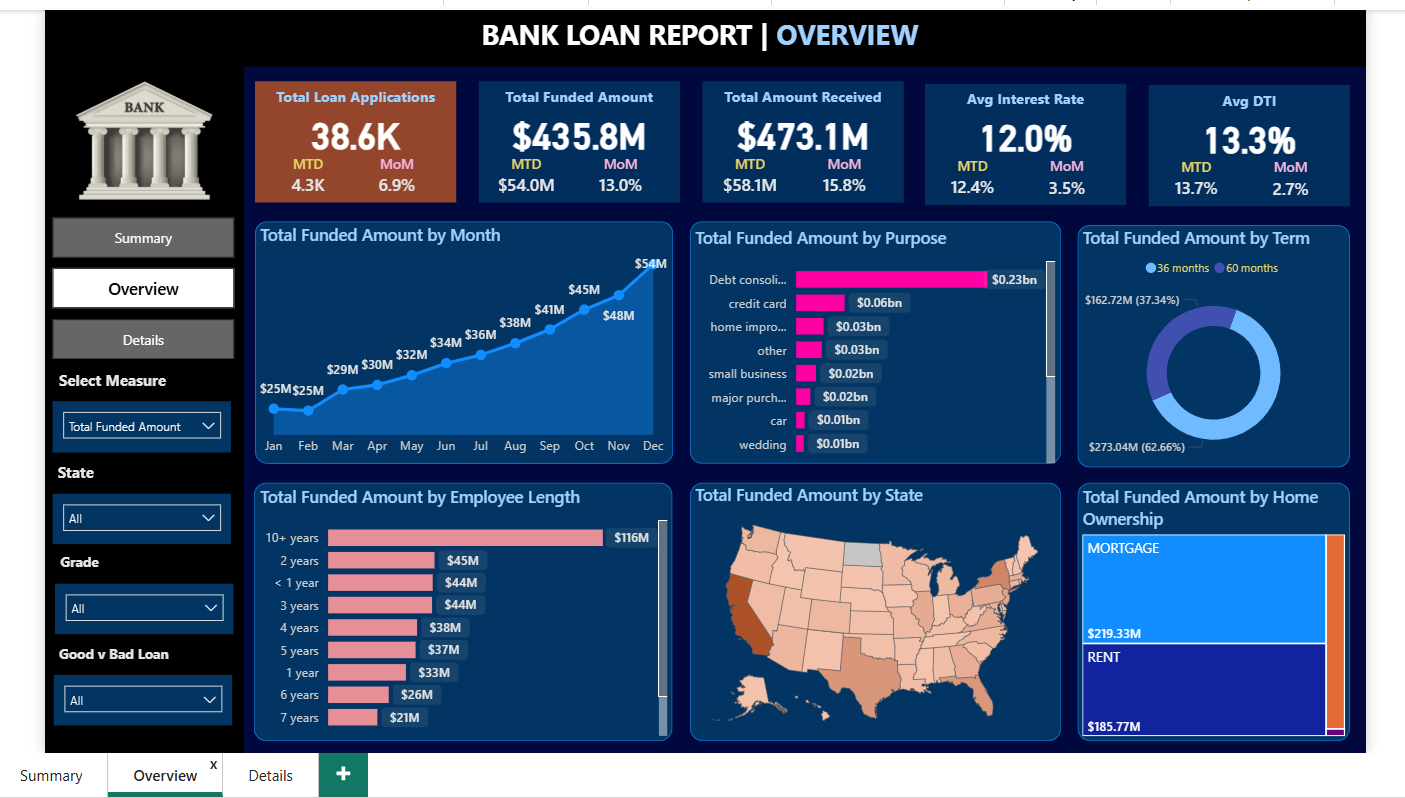

The page's visual inventory and layout, read from the dashboard file:
{"tool":"powerbi","page":{"name":"Overview","canvas":[1280,720],"ordinal":1},"visuals":[{"type":"shape","box":[0,54.5,192.5,665.8],"z":0},{"type":"shape","box":[203.4,69,194.9,117.4],"z":0,"group":"g1"},{"type":"shape","box":[419.7,69,194.9,117.4],"z":0,"group":"g2"},{"type":"shape","box":[636.1,69,194.9,117.4],"z":0,"group":"g3"},{"type":"shape","box":[852.5,71.4,194.9,117.4],"z":0,"group":"g4"},{"type":"shape","box":[1068.9,72.6,194.9,117.4],"z":0,"group":"g5"},{"type":"card","fields":{"Values":["bank_loan_data.Total Loan Applications"]},"box":[203.4,95.6,194.9,47.2],"z":1000,"group":"g1"},{"type":"card","fields":{"Values":["bank_loan_data.Total Funded Amount"]},"box":[419.7,95.6,194.9,47.2],"z":1000,"group":"g2"},{"type":"card","fields":{"Values":["bank_loan_data.Total Amount Received"]},"box":[636.1,95.6,194.9,47.2],"z":1000,"group":"g3"},{"type":"card","fields":{"Values":["bank_loan_data.Avg Interest Rate"]},"box":[852.5,98,194.9,47.2],"z":1000,"group":"g4"},{"type":"card","fields":{"Values":["bank_loan_data.Avg DTI"]},"box":[1068.9,99.2,194.9,47.2],"z":1000,"group":"g5"},{"type":"shape","box":[203.4,204.6,405,235],"z":1000},{"type":"shape","box":[0,0,1280.3,55],"z":2000},{"type":"textbox","box":[203.4,69,194.9,35.1],"z":2000,"group":"g1"},{"type":"textbox","box":[419.7,69,194.9,35.1],"z":2000,"group":"g2"},{"type":"textbox","box":[636.1,69,194.9,35.1],"z":2000,"group":"g3"},{"type":"textbox","box":[852.5,71.4,194.9,35.1],"z":2000,"group":"g4"},{"type":"textbox","box":[1068.9,72.6,194.9,35.1],"z":2000,"group":"g5"},{"type":"textbox","box":[417.6,0,444.3,55.7],"z":3000},{"type":"card","title":"MTD","fields":{"Values":["bank_loan_data.MTD Funded Amount"]},"box":[427.8,139,75.1,46],"z":3000,"group":"g2"},{"type":"card","title":"MTD","fields":{"Values":["bank_loan_data.MTD Total Amount Received"]},"box":[644.2,139,75.1,46],"z":3000,"group":"g3"},{"type":"card","title":"MTD","fields":{"Values":["bank_loan_data.MTD Loan Applications"]},"box":[224,139.2,61.7,47.2],"z":3000,"group":"g1"},{"type":"card","title":"MTD","fields":{"Values":["bank_loan_data.MTD Avg Int Rate"]},"box":[860.6,141.4,75.1,46],"z":3000,"group":"g4"},{"type":"card","title":"MTD","fields":{"Values":["bank_loan_data.MTD Avg DTI"]},"box":[1077,142.6,75.1,46],"z":3000,"group":"g5"},{"type":"group","id":"g1","title":"Group 1","box":[203.4,69,194.9,117.4],"z":4000},{"type":"card","title":"MoM","fields":{"Values":["bank_loan_data.MoM Loan Applications"]},"box":[309.9,139.2,61.7,47.2],"z":4000,"group":"g1"},{"type":"card","title":"MoM","fields":{"Values":["bank_loan_data.MoM Total Funded Amount"]},"box":[526.2,139.2,61.7,47.2],"z":4000,"group":"g2"},{"type":"card","title":"MoM","fields":{"Values":["bank_loan_data.MoM Total Amount Received"]},"box":[742.6,139.2,61.7,47.2],"z":4000,"group":"g3"},{"type":"card","title":"MoM","fields":{"Values":["bank_loan_data.MoM Avg Int Rate"]},"box":[959,141.6,61.7,47.2],"z":4000,"group":"g4"},{"type":"card","title":"MoM","fields":{"Values":["bank_loan_data.MoM Avg DTI"]},"box":[1175.4,142.8,61.7,47.2],"z":4000,"group":"g5"},{"type":"group","id":"g2","title":"Group 1","box":[419.7,69,194.9,117.4],"z":5000},{"type":"group","id":"g3","title":"Group 1","box":[636.1,69,194.9,117.4],"z":6000},{"type":"group","id":"g4","title":"Group 1","box":[852.5,71.4,194.9,117.4],"z":7000},{"type":"group","id":"g5","title":"Group 1","box":[1068.9,72.6,194.9,117.4],"z":8000},{"type":"slicer","fields":{"Values":["bank_loan_data.address_state"]},"box":[7.3,468.1,173.1,48.4],"z":9000},{"type":"textbox","box":[7.3,432.6,69,31.5],"z":10000},{"type":"slicer","fields":{"Values":["bank_loan_data.grade"]},"box":[9.7,556,173.1,48.4],"z":11000},{"type":"textbox","box":[9.7,520.5,69,31.5],"z":12000},{"type":"slicer","fields":{"Values":["bank_loan_data.Good v Bad Loan"]},"box":[8.5,644,173.1,48.4],"z":13000},{"type":"textbox","box":[8.5,608.5,152.5,31.5],"z":14000},{"type":"areaChart","fields":{"Y":["bank_loan_data.Total Funded Amount"],"Category":["Date Table.Month"]},"box":[203.4,205.8,404.3,234.8],"z":15000},{"type":"slicer","fields":{"Values":["Select Measure.Select Measure"]},"box":[7.3,378.9,173.1,49.6],"z":16000},{"type":"shape","box":[624.6,204.6,359.5,234.8],"z":17000},{"type":"textbox","box":[8.5,343.4,141.6,31.5],"z":18000},{"type":"shape","box":[624.6,457.6,359.5,250.6],"z":19000},{"type":"shapeMap","fields":{"Value":["bank_loan_data.Total Funded Amount"],"Category":["bank_loan_data.address_state"]},"box":[624.6,457.6,359.5,250.6],"z":20000},{"type":"shape","box":[999.9,208.2,263.9,234.8],"z":21000},{"type":"donutChart","fields":{"Y":["bank_loan_data.Total Funded Amount"],"Category":["bank_loan_data.term"]},"box":[999.9,209.4,263.9,234.8],"z":22000},{"type":"shape","box":[202.2,457.6,405.5,250.6],"z":23000},{"type":"barChart","fields":{"Y":["bank_loan_data.Total Funded Amount"],"Category":["bank_loan_data.emp_length"]},"box":[203.4,460,404.3,248.2],"z":24000},{"type":"barChart","fields":{"Y":["bank_loan_data.Total Funded Amount"],"Category":["bank_loan_data.purpose"]},"box":[624.6,209.4,358.3,234.8],"z":25000},{"type":"shape","box":[999.9,457.6,263.9,250.6],"z":26000},{"type":"treemap","fields":{"Values":["bank_loan_data.Total Funded Amount"],"Group":["bank_loan_data.home_ownership"]},"box":[999.9,460,263.9,248.2],"z":27000},{"type":"pageNavigator","box":[7.3,201.3,176.7,138],"z":28000},{"type":"image","box":[25.4,55.7,141.6,141.6],"z":29000}]}

Visuals, with their boxes on the page's 1280x720 design canvas (x1, y1, x2, y2). These are canvas units, not pixel positions in the 1405x798 screenshot, which may show the page scaled, cropped or inside an application window:
shape: box(0, 54, 192, 720)
shape: box(203, 69, 398, 186)
shape: box(420, 69, 615, 186)
shape: box(636, 69, 831, 186)
shape: box(852, 71, 1047, 189)
shape: box(1069, 73, 1264, 190)
card - bank_loan_data.Total Loan Applications: box(203, 96, 398, 143)
card - bank_loan_data.Total Funded Amount: box(420, 96, 615, 143)
card - bank_loan_data.Total Amount Received: box(636, 96, 831, 143)
card - bank_loan_data.Avg Interest Rate: box(852, 98, 1047, 145)
card - bank_loan_data.Avg DTI: box(1069, 99, 1264, 146)
shape: box(203, 205, 608, 440)
shape: box(0, 0, 1280, 55)
textbox: box(203, 69, 398, 104)
textbox: box(420, 69, 615, 104)
textbox: box(636, 69, 831, 104)
textbox: box(852, 71, 1047, 106)
textbox: box(1069, 73, 1264, 108)
textbox: box(418, 0, 862, 56)
"MTD" card: box(428, 139, 503, 185)
"MTD" card: box(644, 139, 719, 185)
"MTD" card: box(224, 139, 286, 186)
"MTD" card: box(861, 141, 936, 187)
"MTD" card: box(1077, 143, 1152, 189)
"Group 1" group: box(203, 69, 398, 186)
"MoM" card: box(310, 139, 372, 186)
"MoM" card: box(526, 139, 588, 186)
"MoM" card: box(743, 139, 804, 186)
"MoM" card: box(959, 142, 1021, 189)
"MoM" card: box(1175, 143, 1237, 190)
"Group 1" group: box(420, 69, 615, 186)
"Group 1" group: box(636, 69, 831, 186)
"Group 1" group: box(852, 71, 1047, 189)
"Group 1" group: box(1069, 73, 1264, 190)
slicer - bank_loan_data.address_state: box(7, 468, 180, 516)
textbox: box(7, 433, 76, 464)
slicer - bank_loan_data.grade: box(10, 556, 183, 604)
textbox: box(10, 520, 79, 552)
slicer - bank_loan_data.Good v Bad Loan: box(8, 644, 182, 692)
textbox: box(8, 608, 161, 640)
areaChart - bank_loan_data.Total Funded Amount x Date Table.Month: box(203, 206, 608, 441)
slicer - Select Measure.Select Measure: box(7, 379, 180, 428)
shape: box(625, 205, 984, 439)
textbox: box(8, 343, 150, 375)
shape: box(625, 458, 984, 708)
shapeMap - bank_loan_data.Total Funded Amount x bank_loan_data.address_state: box(625, 458, 984, 708)
shape: box(1000, 208, 1264, 443)
donutChart - bank_loan_data.Total Funded Amount x bank_loan_data.term: box(1000, 209, 1264, 444)
shape: box(202, 458, 608, 708)
barChart - bank_loan_data.Total Funded Amount x bank_loan_data.emp_length: box(203, 460, 608, 708)
barChart - bank_loan_data.Total Funded Amount x bank_loan_data.purpose: box(625, 209, 983, 444)
shape: box(1000, 458, 1264, 708)
treemap - bank_loan_data.Total Funded Amount x bank_loan_data.home_ownership: box(1000, 460, 1264, 708)
pageNavigator: box(7, 201, 184, 339)
image: box(25, 56, 167, 197)
